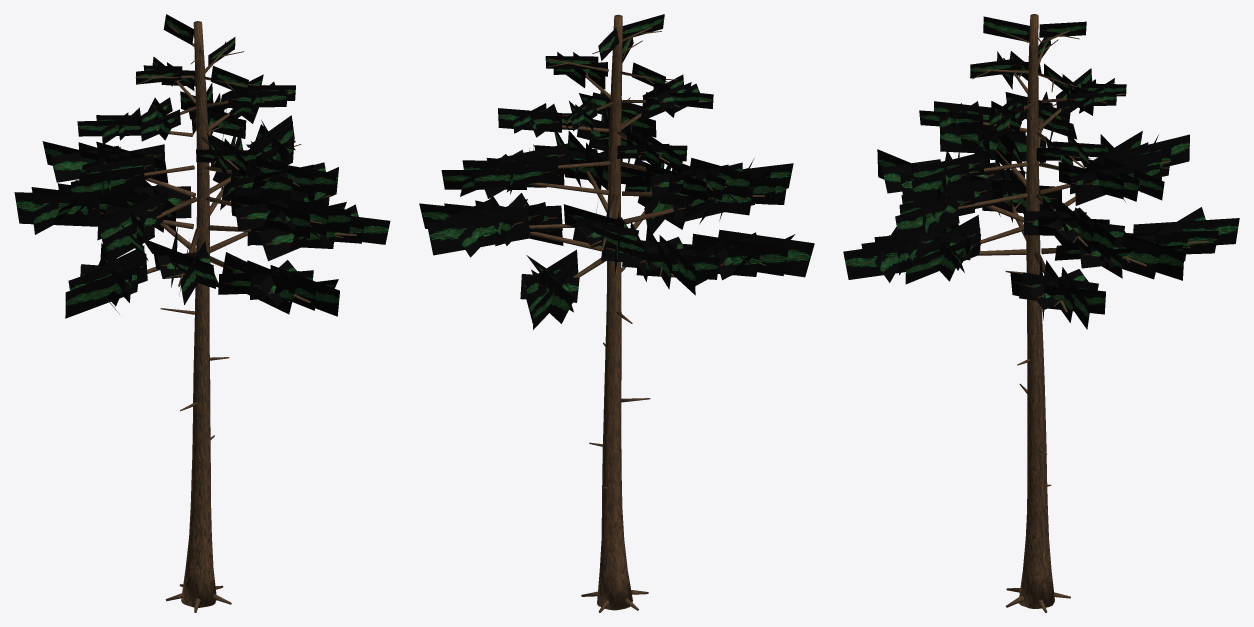
Rendered from terrain_pine_broad.fbx.
3 renders of one model, left to right at view 1: azimuth 30°, elevation 25°; view 2: azimuth 150°, elevation 25°; view 3: azimuth 270°, elevation 25°, orthographic.
Visible parts, largest first — view 1: TerrainPineBroadMesh; view 2: TerrainPineBroadMesh; view 3: TerrainPineBroadMesh.
Part boxes in pixels (x1=…): TerrainPineBroadMesh: x1=14, y1=14, x2=390, y2=612; TerrainPineBroadMesh: x1=419, y1=14, x2=814, y2=612; TerrainPineBroadMesh: x1=843, y1=14, x2=1239, y2=612.
Size of the model in its own units: 849 by 1414 by 869.
